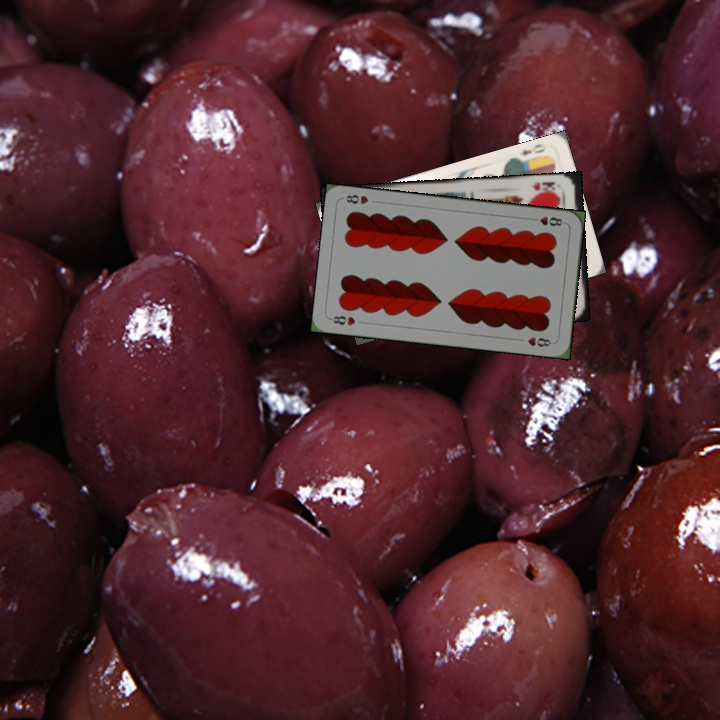EO: (514, 141, 547, 166)
H8: (527, 212, 568, 229), (327, 312, 358, 328)
HK: (528, 177, 560, 198)
